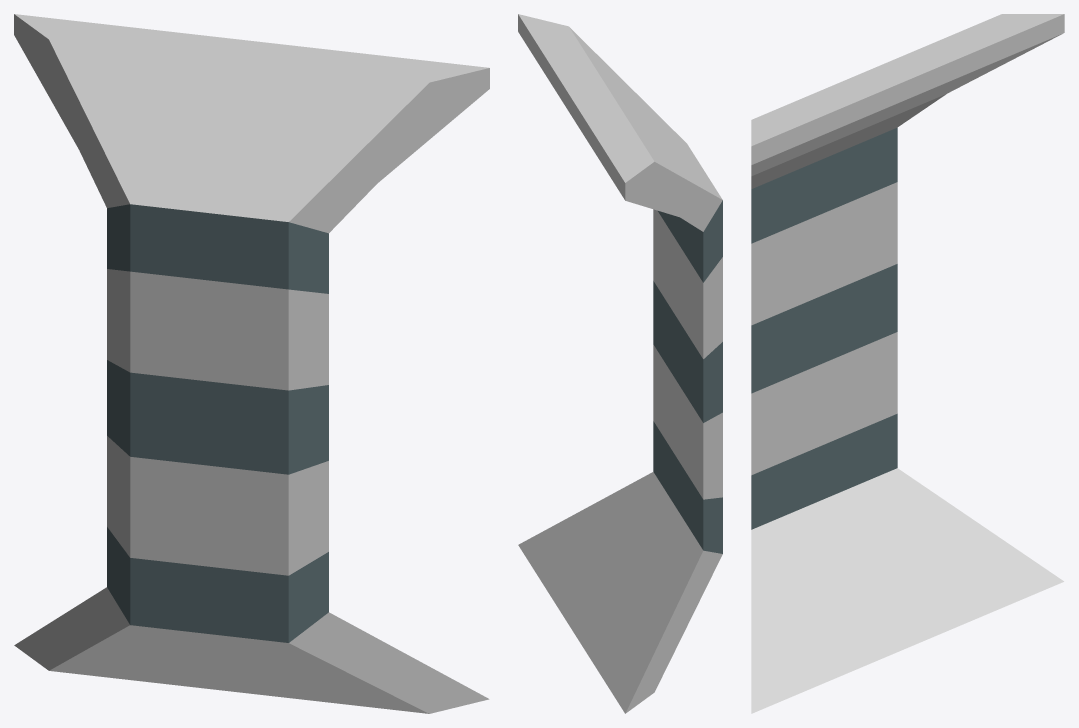
Rendered from scifi_wall_bowed_inside_turn_med.fbx.
3 renders of one model, left to right at view 1: azimuth 30°, elevation 25°; view 2: azimuth 150°, elevation 25°; view 3: azimuth 270°, elevation 25°, orthographic. The views are drawn at different scales.
Visible parts, largest first — view 1: Cube.024; view 2: Cube.024; view 3: Cube.024.
Part boxes in pixels (x1,y1,x2,y2): Cube.024: (14, 14, 489, 713); Cube.024: (518, 14, 722, 713); Cube.024: (751, 14, 1064, 713).
Size of the model in its own units: 1.5 by 3 by 1.5.
